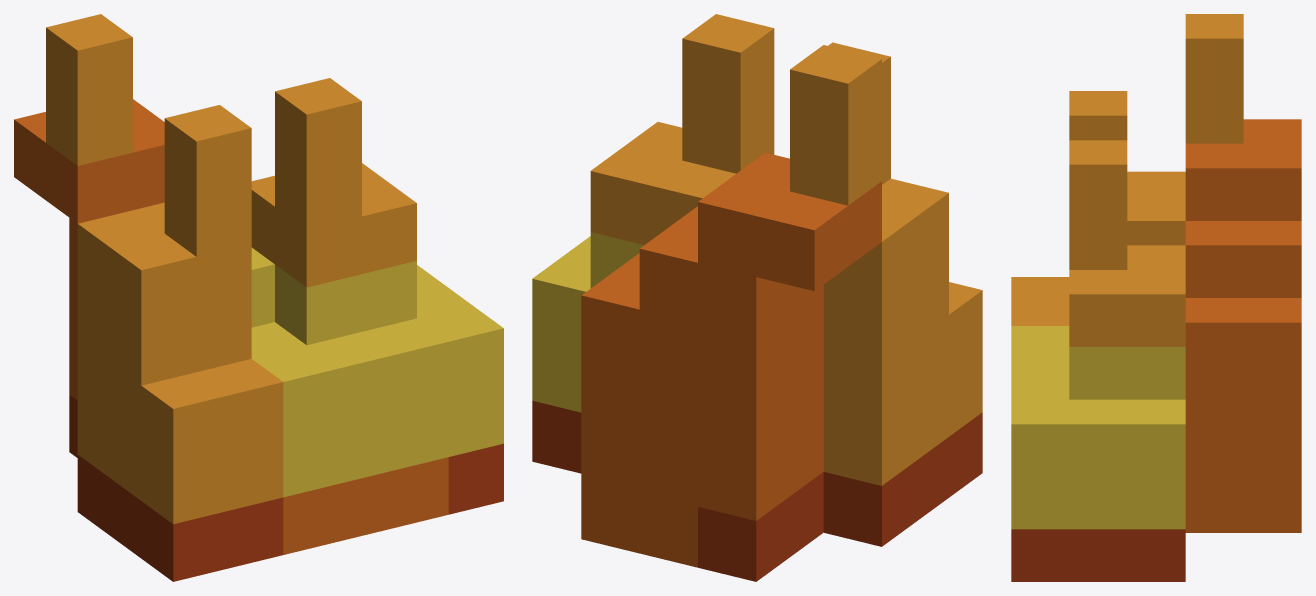
File: flame_08.glb
3 renders of one model, left to right at view 1: azimuth 30°, elevation 25°; view 2: azimuth 150°, elevation 25°; view 3: azimuth 270°, elevation 25°, orthographic. The views are drawn at different scales.
Visible parts, largest first — view 1: flame_08; view 2: flame_08; view 3: flame_08.
Boxes of the visible parts, x1=… form: flame_08: x1=14, y1=14, x2=503, y2=581; flame_08: x1=532, y1=14, x2=982, y2=581; flame_08: x1=1011, y1=14, x2=1301, y2=581.
Size of the model in its own units: 0.75 by 1 by 0.625.
